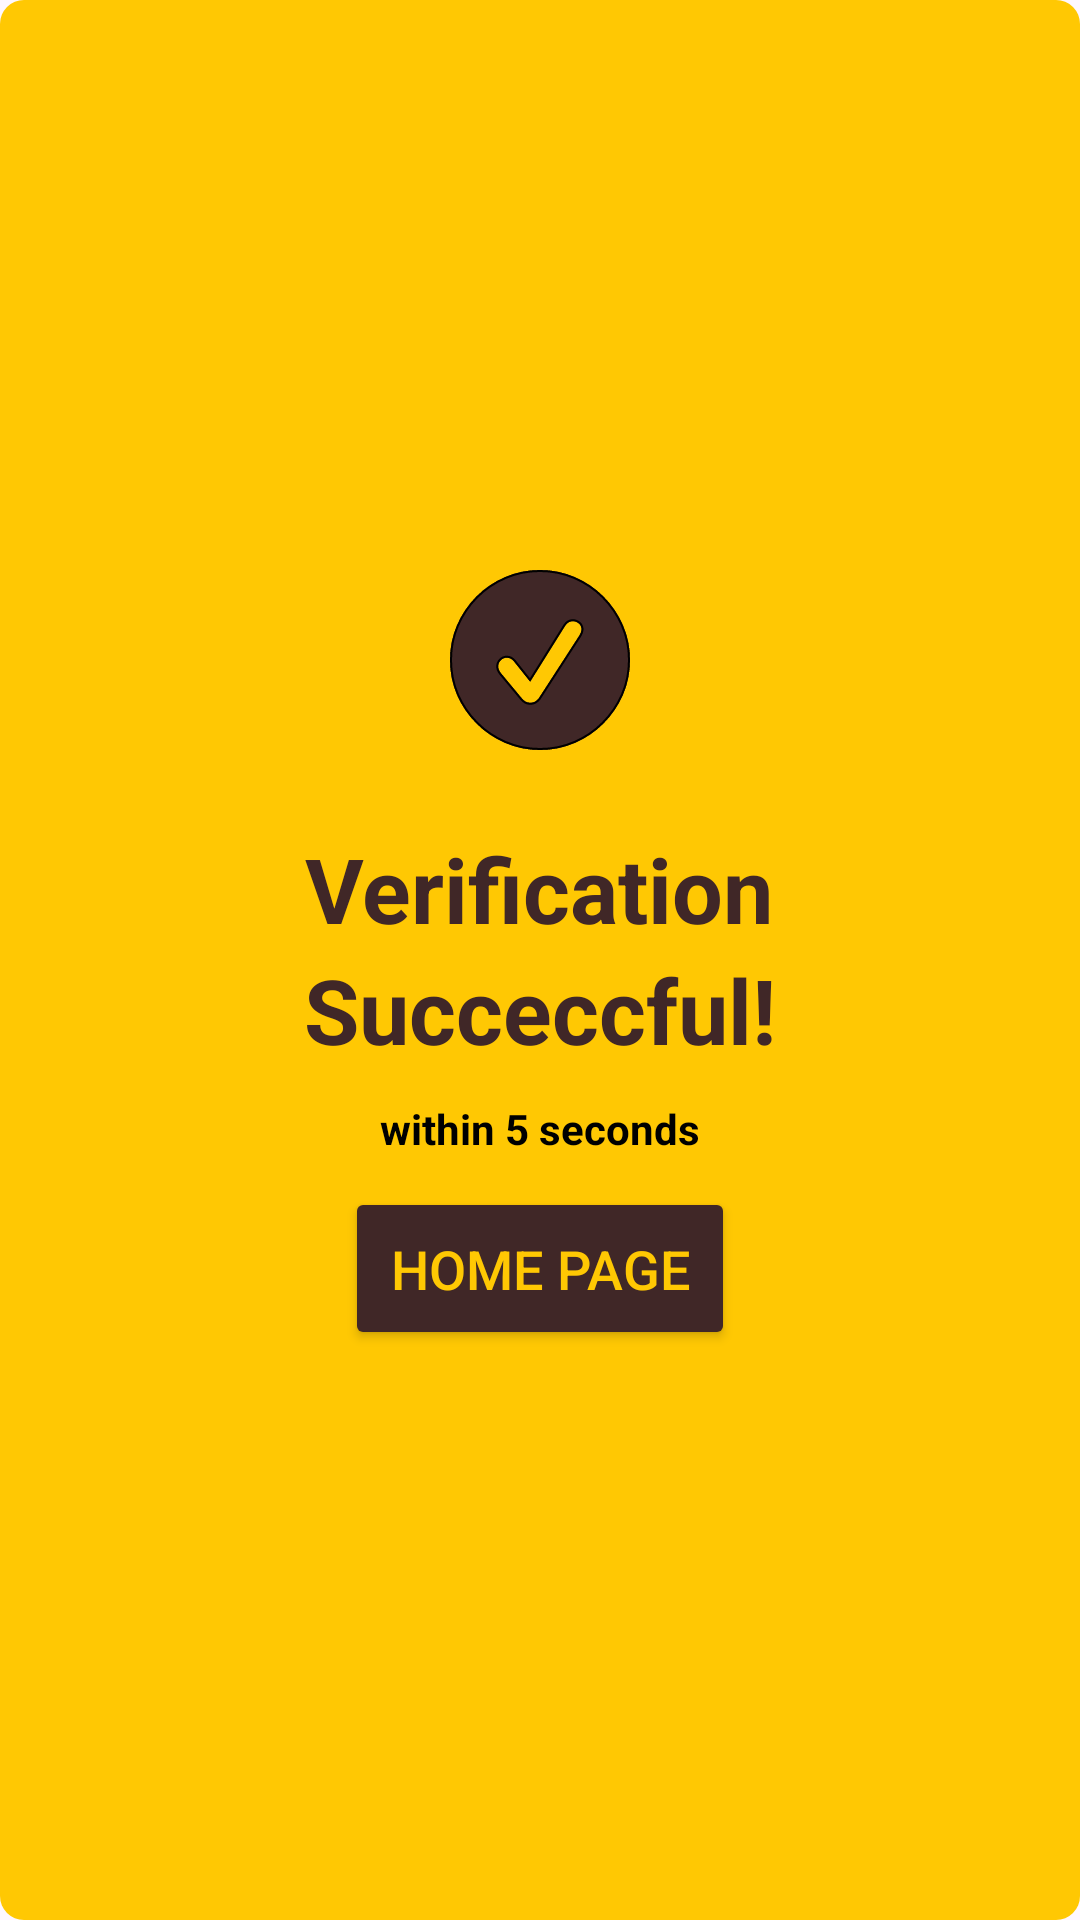

Where icons sit on this 1080*1920 app screen, as region(x1, y1, x2, y2):
Verified Icon: region(450, 570, 630, 750)
